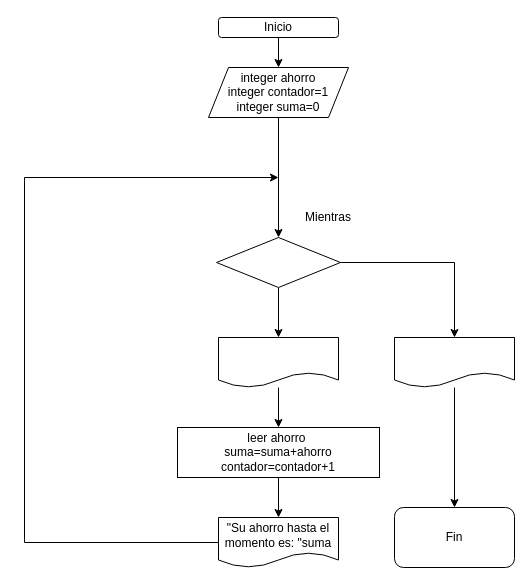
Image size: 532x585. Some labels were removed from this diagram. Here are the shapes that lost their labels. From the top down, the box of each, then its label:
(216, 236, 340, 288): contador<=12
(218, 336, 338, 388): "Ingrese el ahorro del mes"
(394, 336, 514, 388): "Su ahorro durante 12 meses es: "suma
